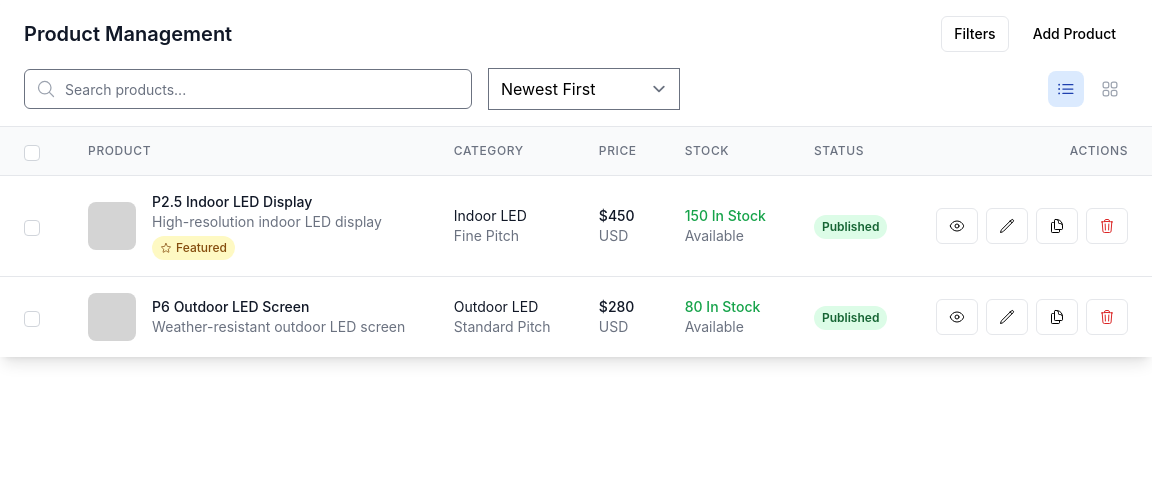
ProductManagement › shows empty state when no products exist
Search for non-existent product
In the field with placeholder "Search products...": (248, 89) 24,69 -> 472,109, type "NonExistentProduct"
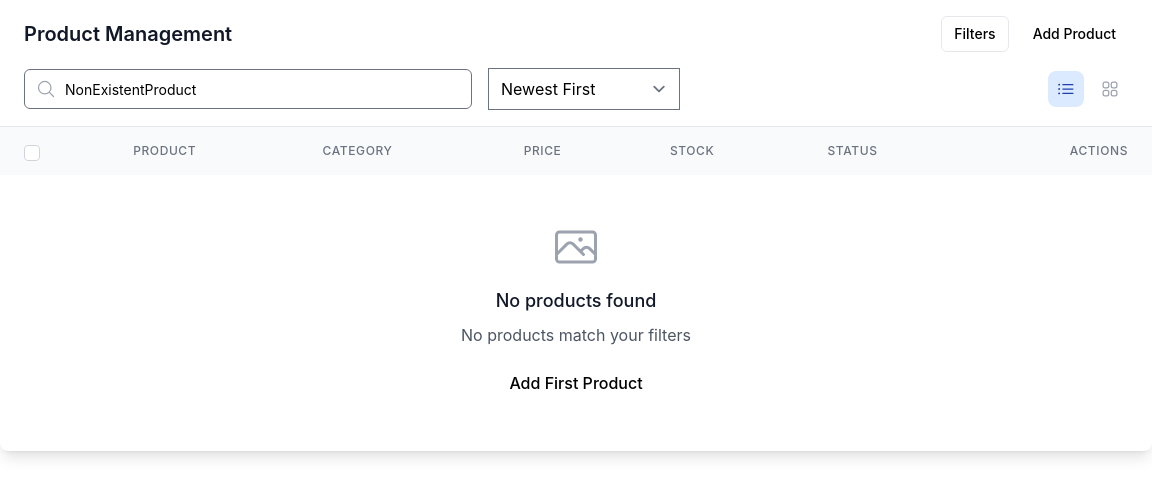
Check: the heading "No products found" is shown, box 496,290 -> 656,311
Check: the text "No products match your filters" is shown, box 461,325 -> 691,345
